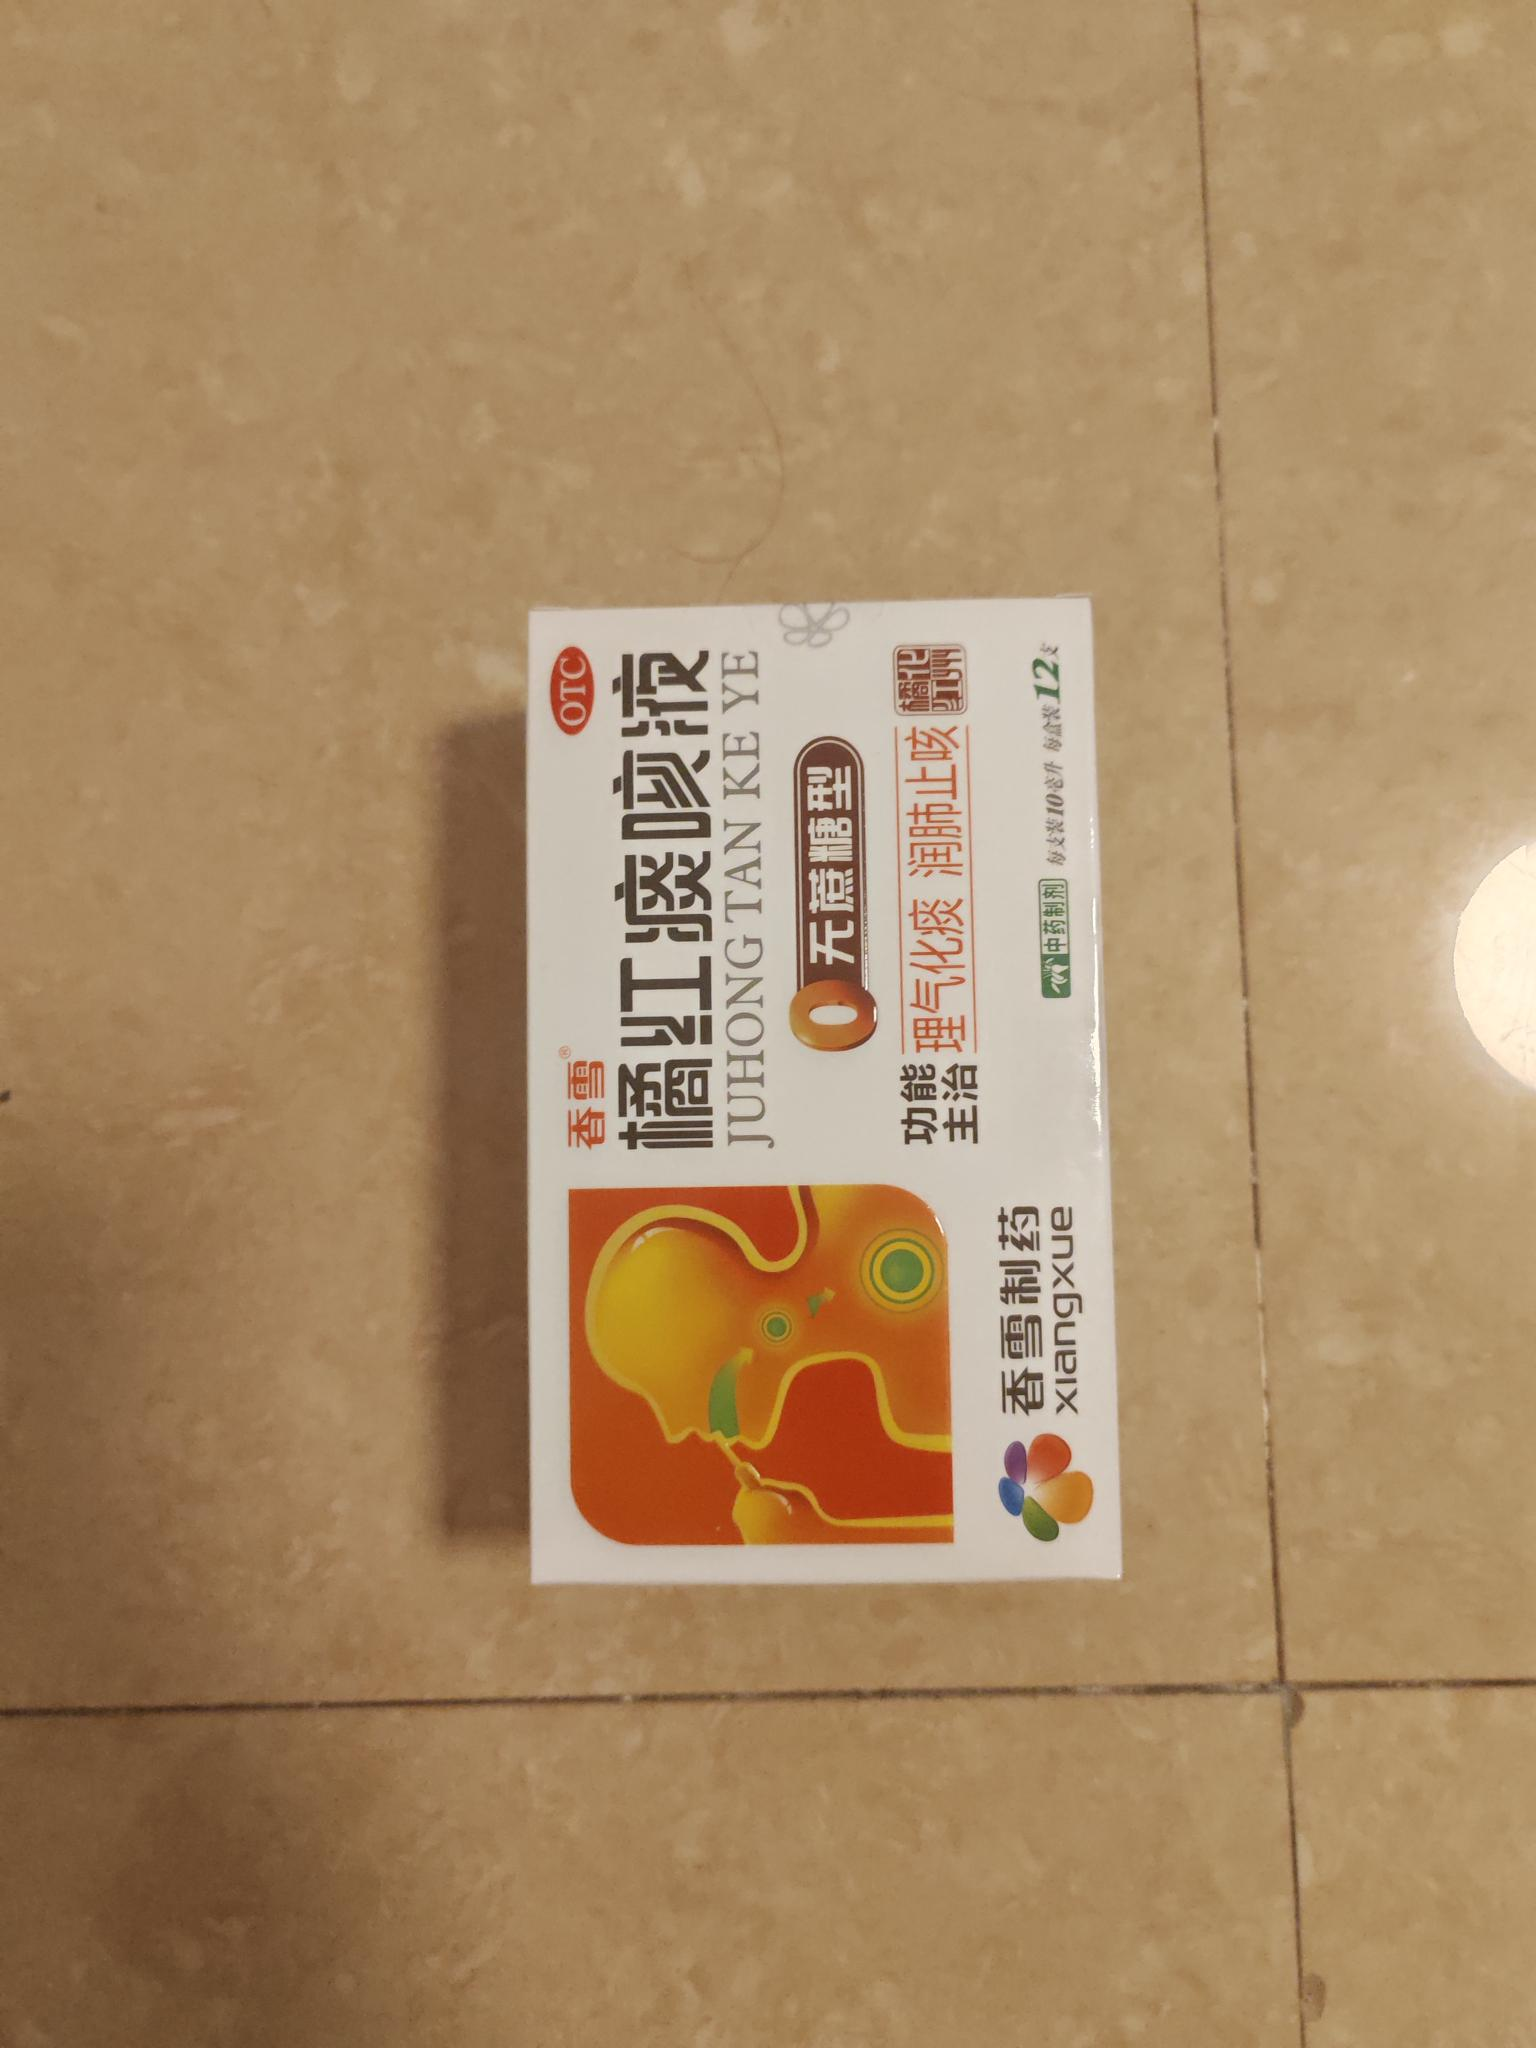Medicine1: (490, 582, 1141, 1598)
